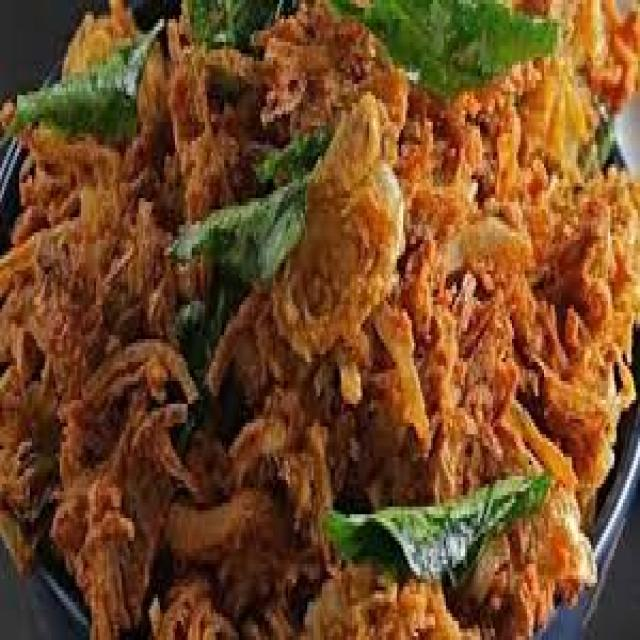BAJI: (0, 0, 638, 636)
